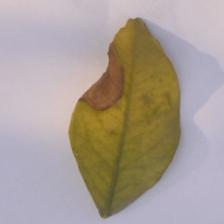black spot: (69, 46, 130, 112)
